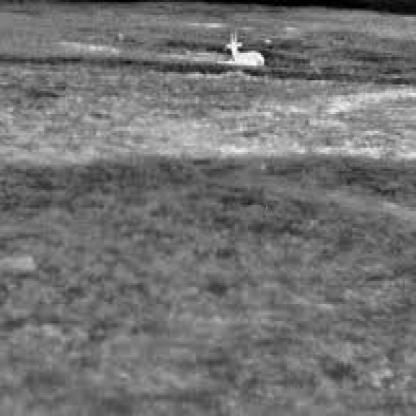rehkitze: (221, 32, 267, 65)
